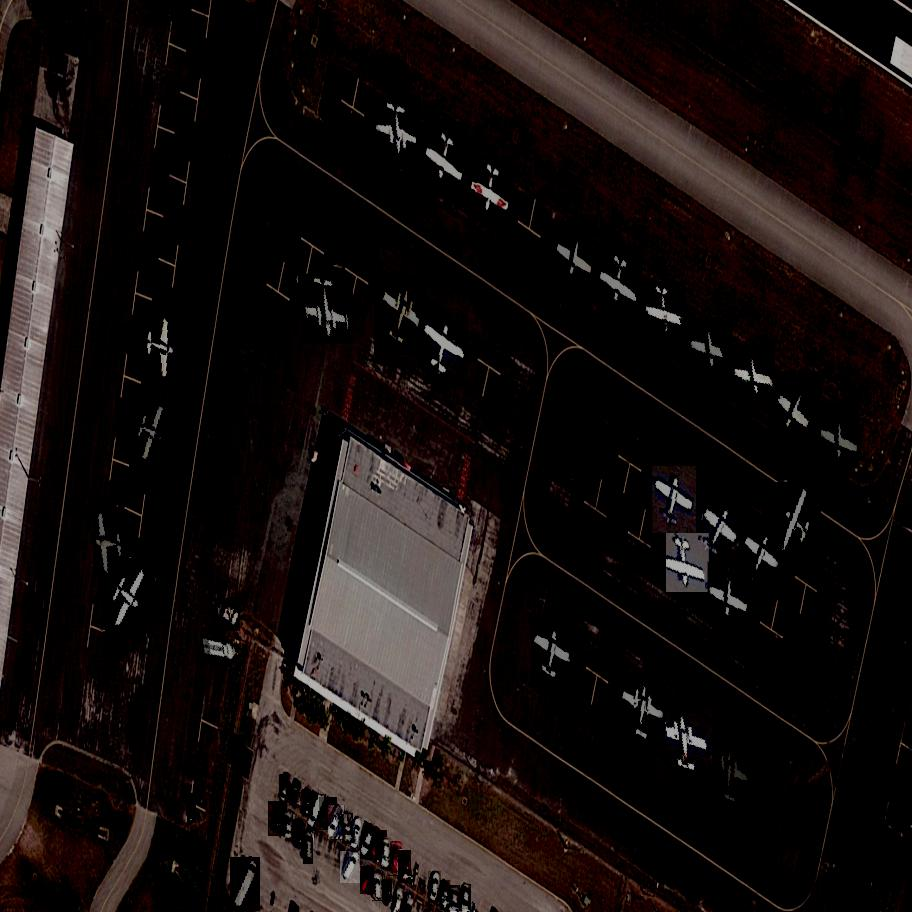large-vehicle: (229, 857, 262, 911), (211, 598, 245, 632), (198, 637, 240, 664)
plane: (402, 308, 487, 388), (640, 709, 727, 779), (369, 275, 435, 356), (769, 482, 826, 571), (639, 467, 713, 534), (454, 156, 527, 223), (541, 220, 612, 287), (100, 559, 159, 638), (415, 123, 477, 198), (766, 371, 828, 441), (301, 270, 353, 347), (690, 497, 749, 564), (734, 522, 791, 591), (617, 675, 668, 748), (597, 246, 648, 315), (529, 618, 579, 688), (706, 739, 755, 810), (374, 96, 422, 163), (129, 400, 174, 468), (707, 562, 755, 625), (819, 402, 862, 468), (731, 341, 776, 402), (689, 314, 733, 375), (646, 280, 687, 340), (667, 533, 708, 592), (93, 507, 127, 578), (147, 313, 174, 383)
small-vehicle: (307, 794, 328, 830), (268, 802, 290, 836), (340, 851, 362, 884), (358, 823, 377, 859), (327, 806, 347, 839), (366, 831, 388, 861), (318, 798, 339, 829), (349, 816, 364, 850), (389, 841, 403, 876), (428, 872, 442, 906), (360, 867, 377, 895), (398, 850, 412, 883), (279, 774, 293, 803), (293, 819, 304, 851), (381, 837, 392, 869), (342, 814, 353, 845), (303, 830, 313, 864), (440, 881, 451, 910), (373, 871, 384, 900), (301, 790, 312, 818), (450, 885, 461, 911), (292, 783, 303, 808), (187, 795, 196, 823), (383, 879, 393, 902), (462, 884, 471, 909), (285, 811, 292, 840)
